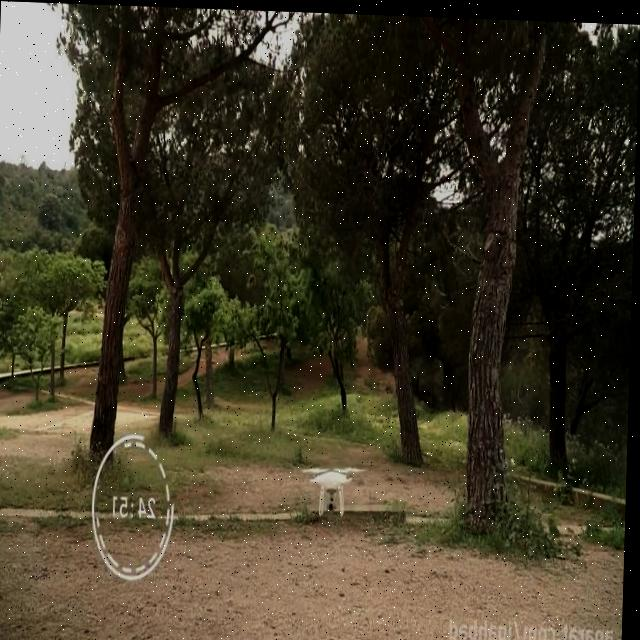drone: (299, 456, 371, 521)
